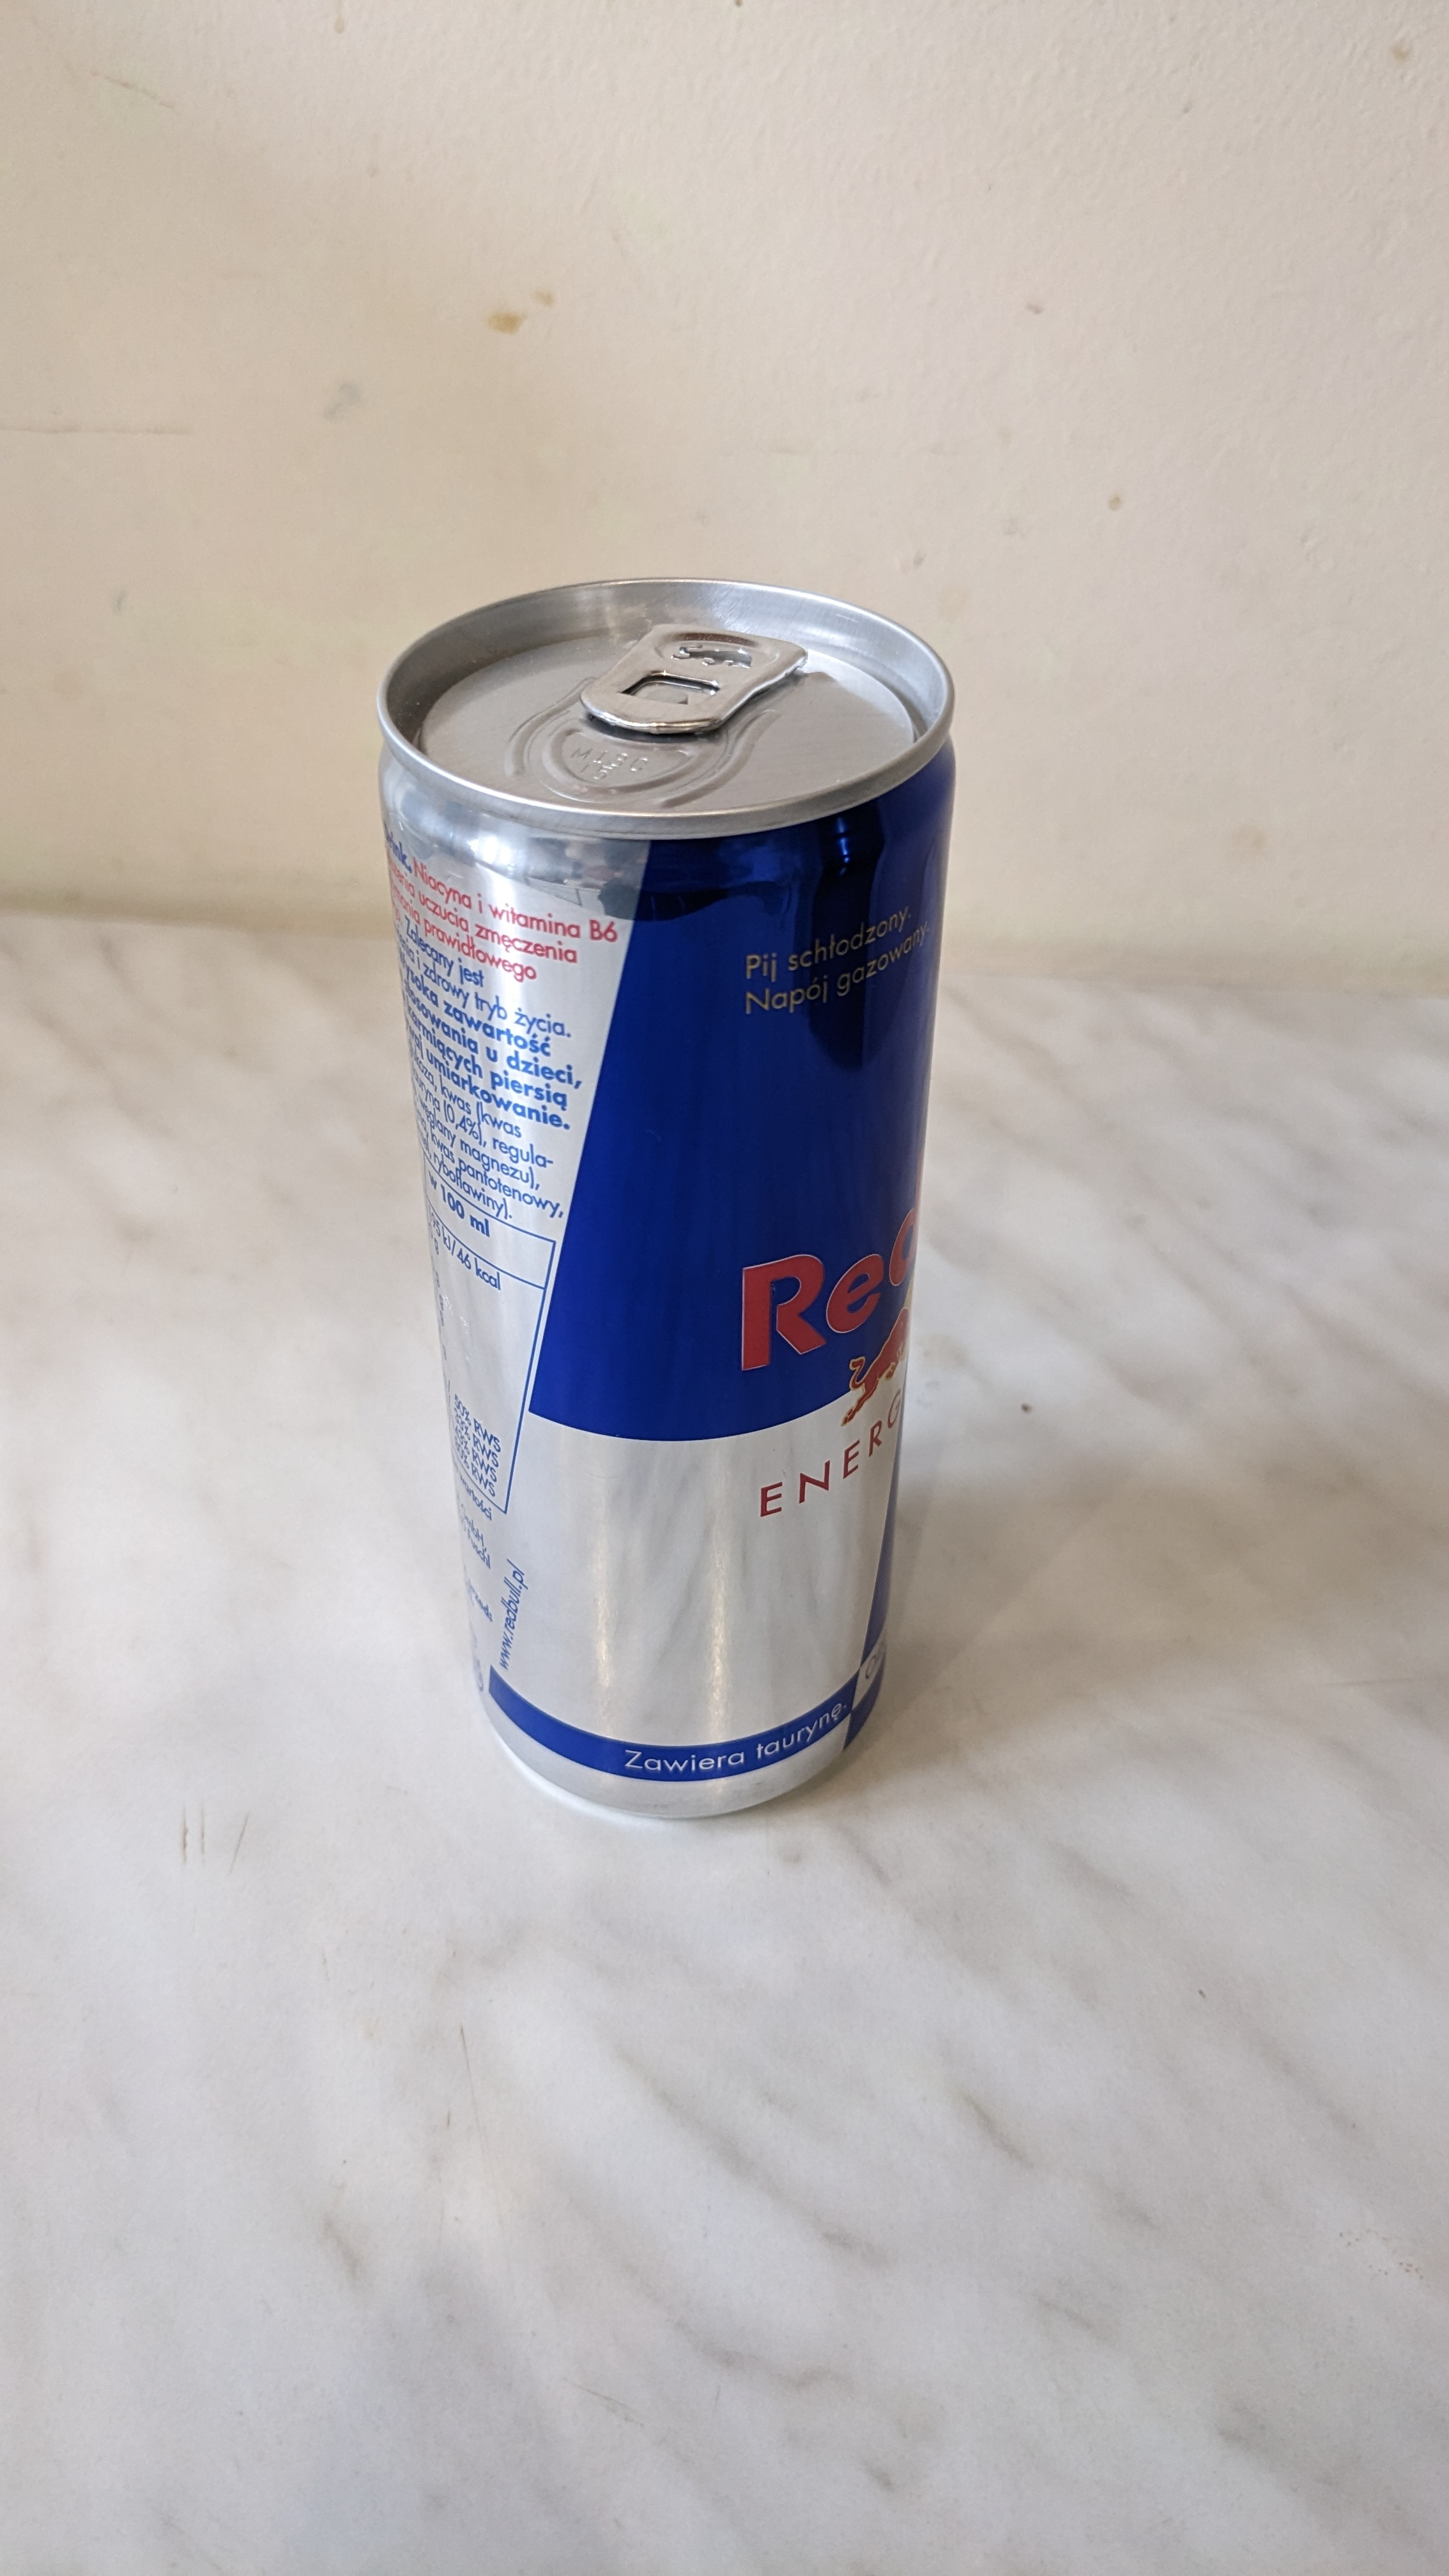red-bull: (327, 543, 1030, 1884)
